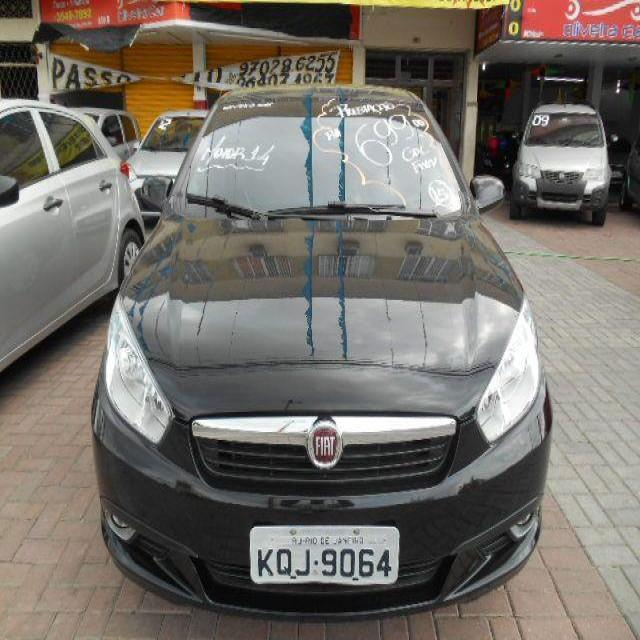Placa: (245, 521, 401, 587)
